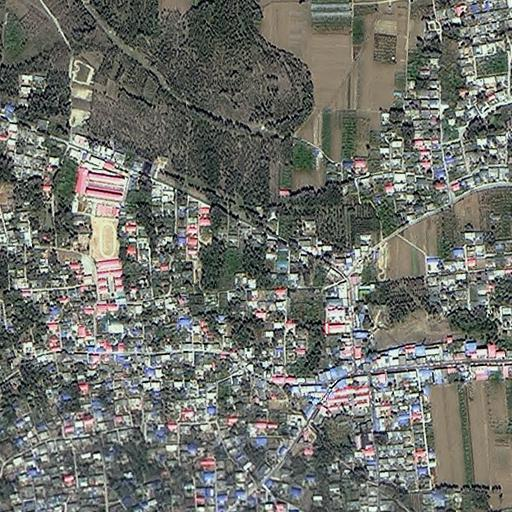school: (75, 166, 126, 259)
